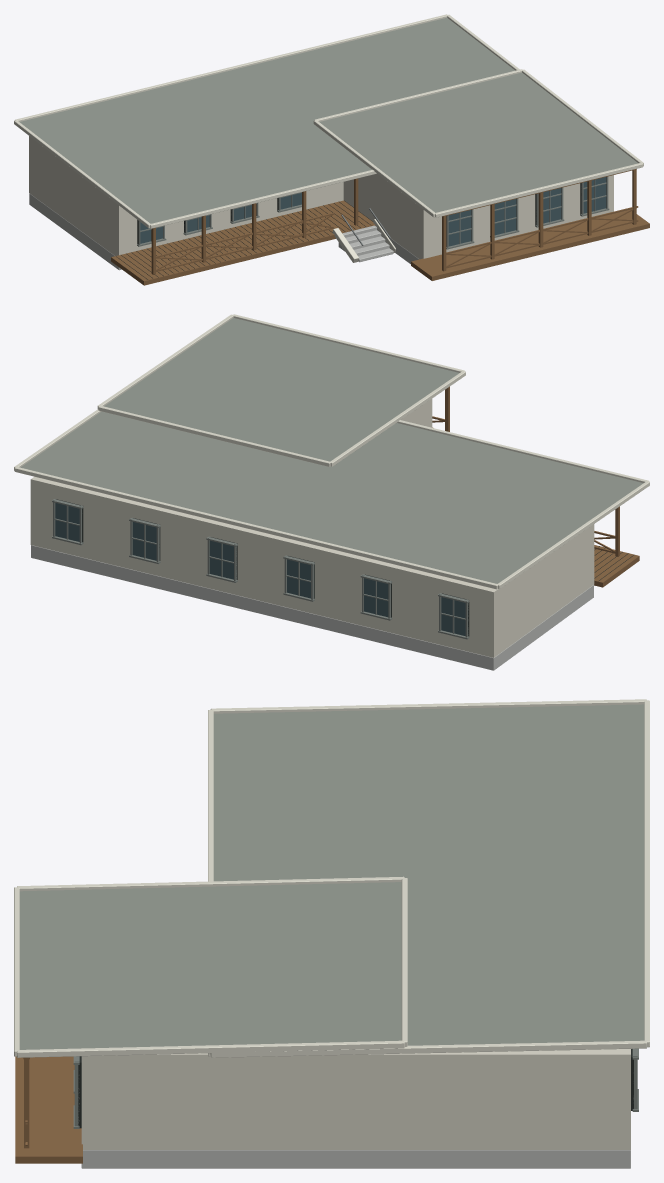
3 renders of one model, top to bottom at view 1: azimuth 30°, elevation 25°; view 2: azimuth 150°, elevation 25°; view 3: azimuth 270°, elevation 25°, orthographic. The views are drawn at different scales.
Visible parts, largest first — view 1: estimated-low-long-roof__roof, estimated-low-return-roof__roof, estimated-L-shaped-one-storey-shell__cream, estimated-straight-roof-fascia__trim, front-timber-deck__wood, right-return-deck__wood, veranda-timber-posts__wood, return-front-windows__glass, X-deck-rails__wood, X-deck-braces__wood, return-front-windows__frame, estimated-low-foundation__concrete (+5 smaller); view 2: estimated-low-long-roof__roof, estimated-L-shaped-one-storey-shell__cream, estimated-low-return-roof__roof, estimated-straight-roof-fascia__trim, estimated-low-foundation__concrete, estimated-rear-windows__glass, estimated-rear-windows__frame, front-timber-deck__wood; view 3: estimated-low-long-roof__roof, estimated-low-return-roof__roof, estimated-L-shaped-one-storey-shell__cream, estimated-straight-roof-fascia__trim, estimated-low-foundation__concrete, right-return-deck__wood.
Boxes of the visible parts, x1,y1,x2,y2 form: estimated-low-long-roof__roof: (19,17,514,223); estimated-low-return-roof__roof: (319,72,637,212); estimated-L-shaped-one-storey-shell__cream: (29,136,613,259); estimated-straight-roof-fascia__trim: (14,14,643,228); front-timber-deck__wood: (111,200,375,285); right-return-deck__wood: (411,210,649,280); veranda-timber-posts__wood: (151,169,636,274); return-front-windows__glass: (448,177,606,246); X-deck-rails__wood: (156,206,638,271); X-deck-braces__wood: (156,209,637,270); return-front-windows__frame: (446,176,609,249); estimated-low-foundation__concrete: (29,193,419,270); estimated-low-long-roof__roof: (20,411,643,583); estimated-L-shaped-one-storey-shell__cream: (30,399,594,657); estimated-low-return-roof__roof: (104,318,459,461); estimated-straight-roof-fascia__trim: (14,314,649,589); estimated-low-foundation__concrete: (31,545,593,670); estimated-rear-windows__glass: (55,503,465,635); estimated-rear-windows__frame: (52,499,469,639); front-timber-deck__wood: (594,545,639,587); estimated-low-long-roof__roof: (213,704,644,1045); estimated-low-return-roof__roof: (19,882,401,1049); estimated-L-shaped-one-storey-shell__cream: (81,1049,630,1149); estimated-straight-roof-fascia__trim: (14,699,649,1057); estimated-low-foundation__concrete: (81,1150,630,1168); right-return-deck__wood: (15,1056,82,1163).
Size of the model in its own units: 25.49 by 4.58 by 19.68.
